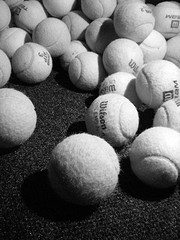tennis ball: (47, 132, 120, 204), (129, 127, 178, 187), (84, 92, 140, 144), (134, 60, 180, 109), (1, 87, 37, 146), (11, 42, 53, 85), (112, 1, 156, 41), (98, 71, 140, 109), (32, 17, 71, 56), (67, 52, 107, 90), (103, 38, 145, 74), (84, 17, 117, 52), (12, 1, 49, 31), (155, 1, 180, 37), (2, 27, 32, 56), (140, 28, 166, 61), (80, 1, 117, 19)
